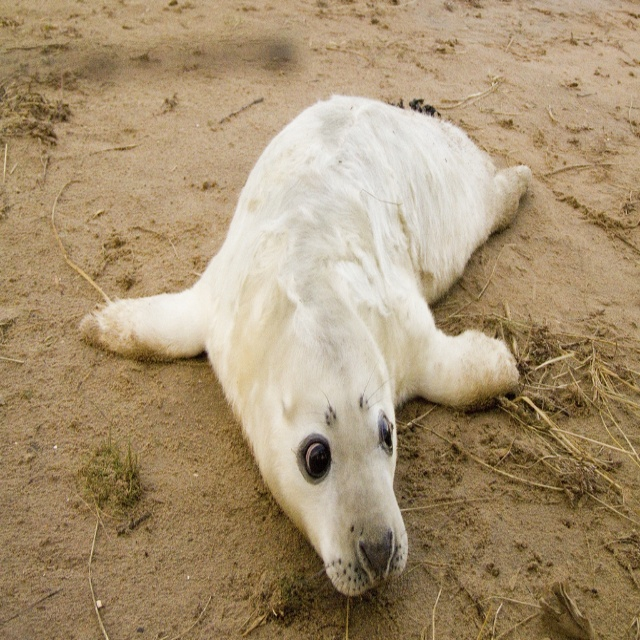Harbor seal: (115, 89, 521, 584)
